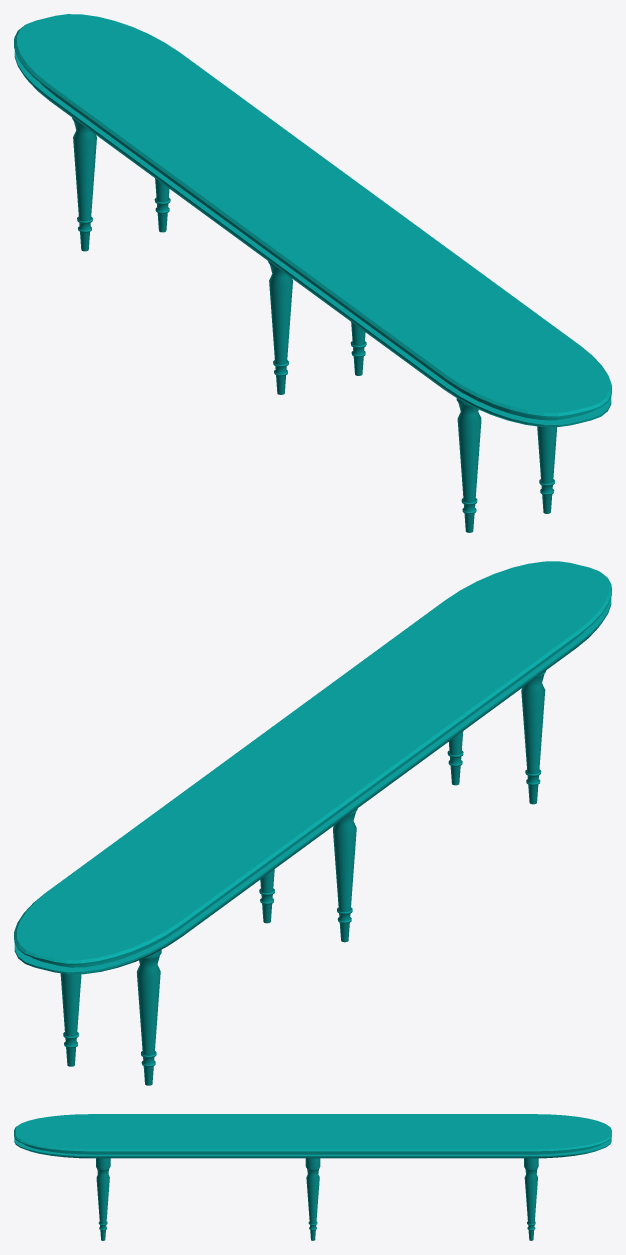
The model's file is Dinner_table.fbx.
3 renders of one model, top to bottom at view 1: azimuth 30°, elevation 25°; view 2: azimuth 150°, elevation 25°; view 3: azimuth 270°, elevation 25°, orthographic. The views are drawn at different scales.
Visible parts, largest first — view 1: Dinner_Table, Dressing_table_legF10, Dressing_table_legF9, Dressing_table_legF13, Dressing_table_legF11; view 2: Dinner_Table, Dressing_table_legF9, Dressing_table_legF10, Dressing_table_legF13, Dressing_table_legF5; view 3: Dinner_Table, Dressing_table_legF12, Dressing_table_legF5, Dressing_table_legF11.
Boxes of the visible parts, x1,y1,x2,y2 form: Dinner_Table: (14, 14, 611, 427); Dressing_table_legF10: (456, 398, 481, 532); Dressing_table_legF9: (72, 117, 96, 251); Dressing_table_legF13: (268, 261, 292, 394); Dressing_table_legF11: (537, 426, 556, 513); Dinner_Table: (14, 561, 611, 974); Dressing_table_legF9: (136, 949, 161, 1085); Dressing_table_legF10: (521, 670, 546, 804); Dressing_table_legF13: (333, 808, 357, 942); Dressing_table_legF5: (60, 973, 81, 1066); Dinner_Table: (14, 1114, 611, 1158); Dressing_table_legF12: (305, 1158, 320, 1240); Dressing_table_legF5: (524, 1158, 538, 1240); Dressing_table_legF11: (96, 1158, 110, 1240).
Bounding box in the file's own units: 10.41 × 12.68 × 71.73.
